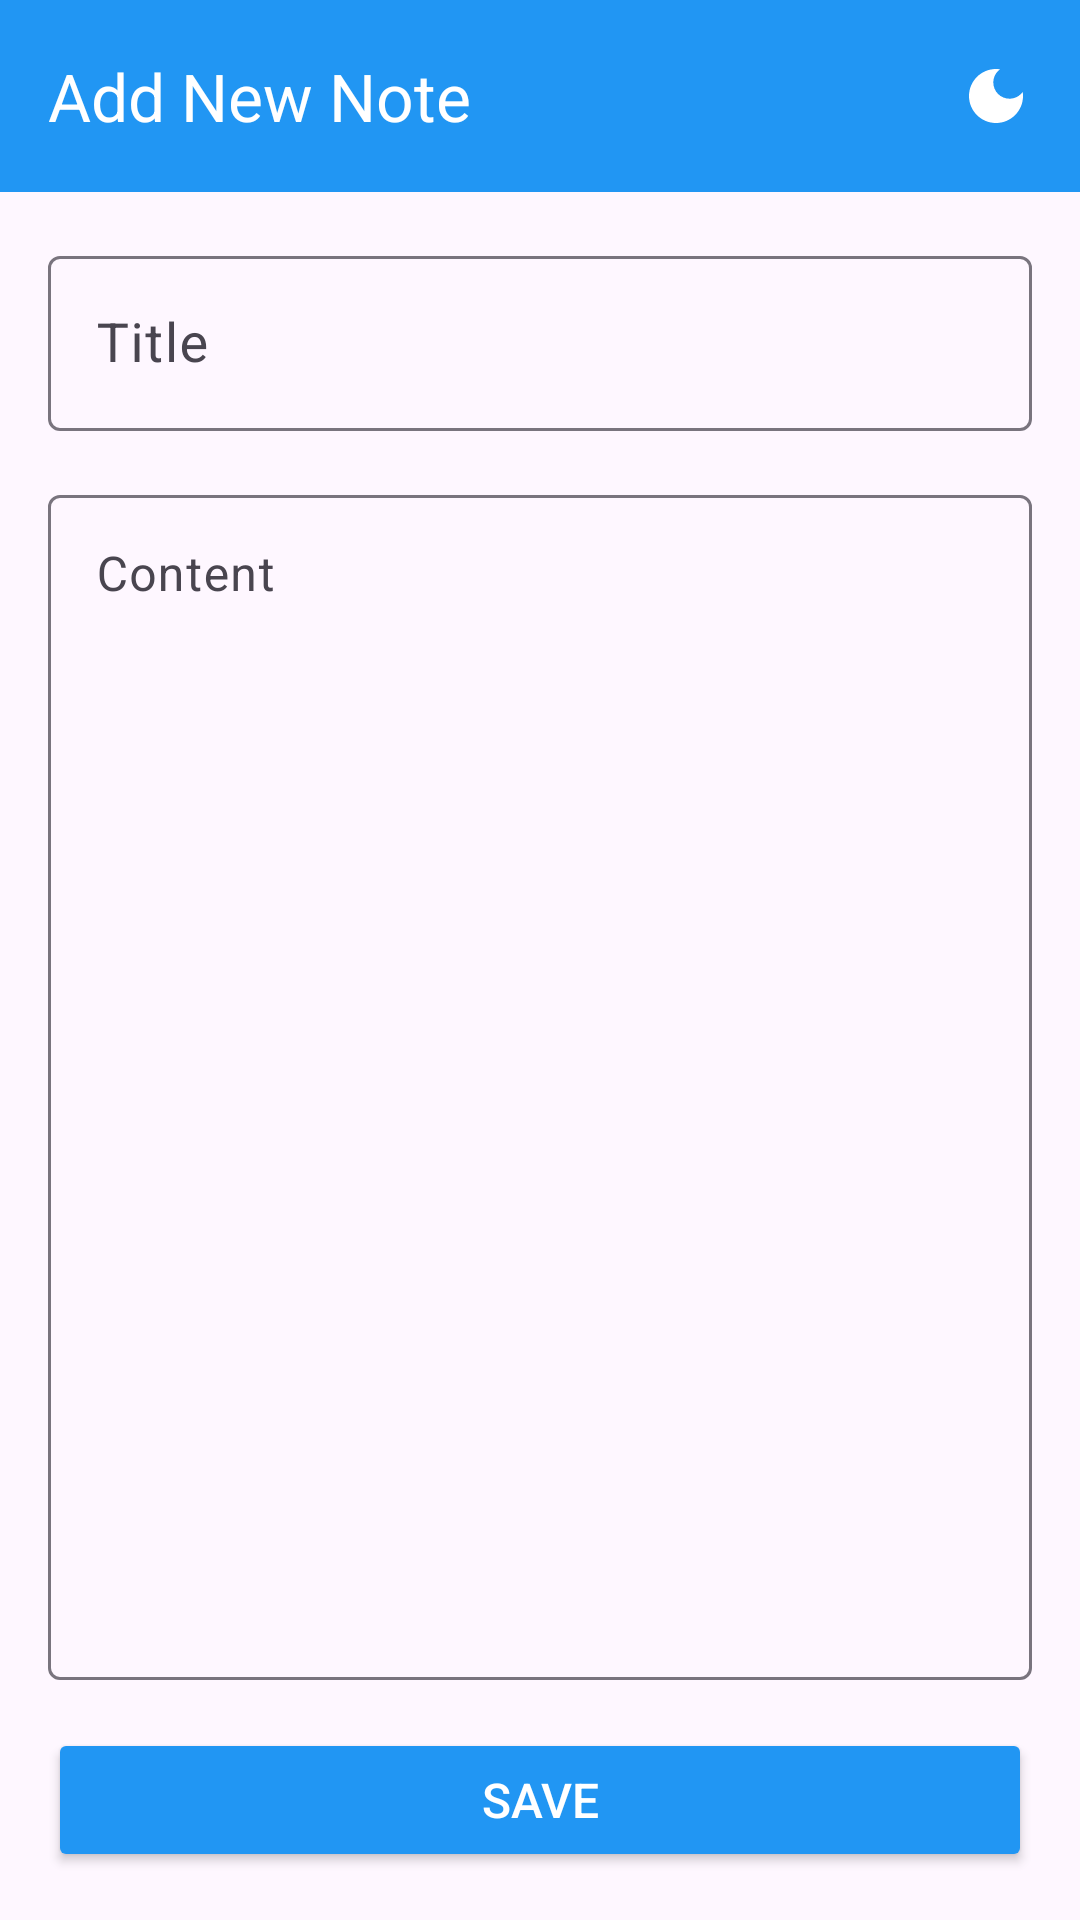

Icons on this 1080 x 1920 Android screen, each with its box as (x1, y1, x2, y2):
Change theme: (969, 69, 1023, 123)
